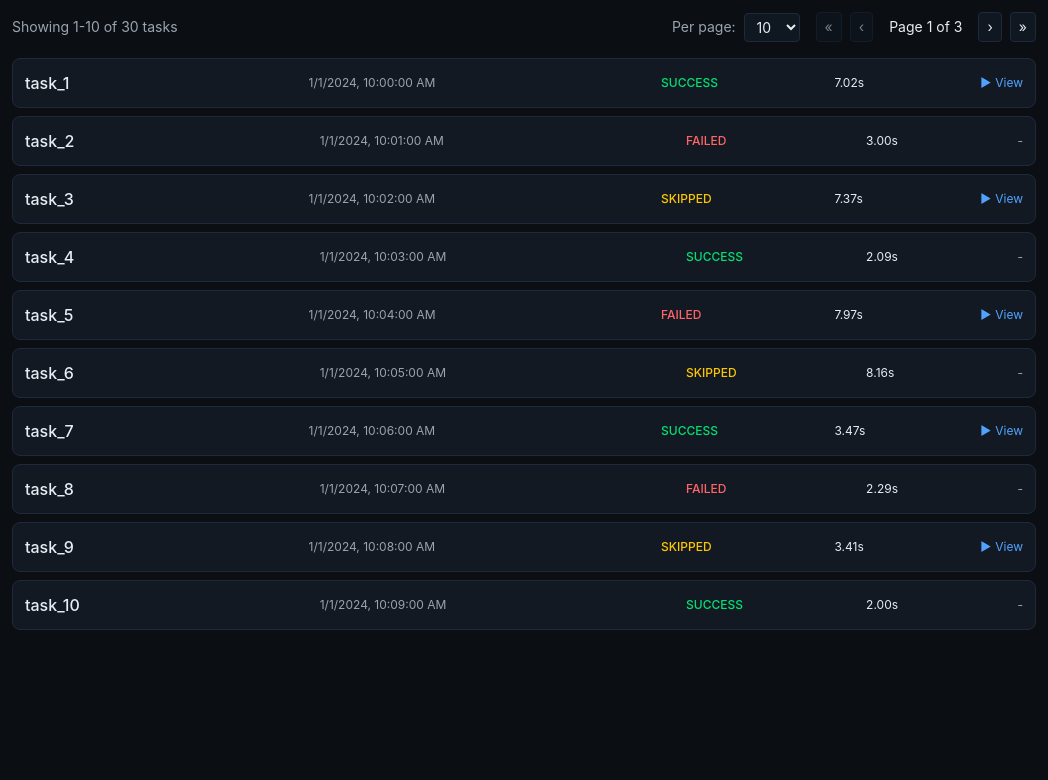
Test: ServiceTasksTable › Bug #75: Pagination functionality › navigates to last page
Note: Click last page button
Click the button titled "Last page" at (1023, 27), box [1010, 12, 1036, 42]
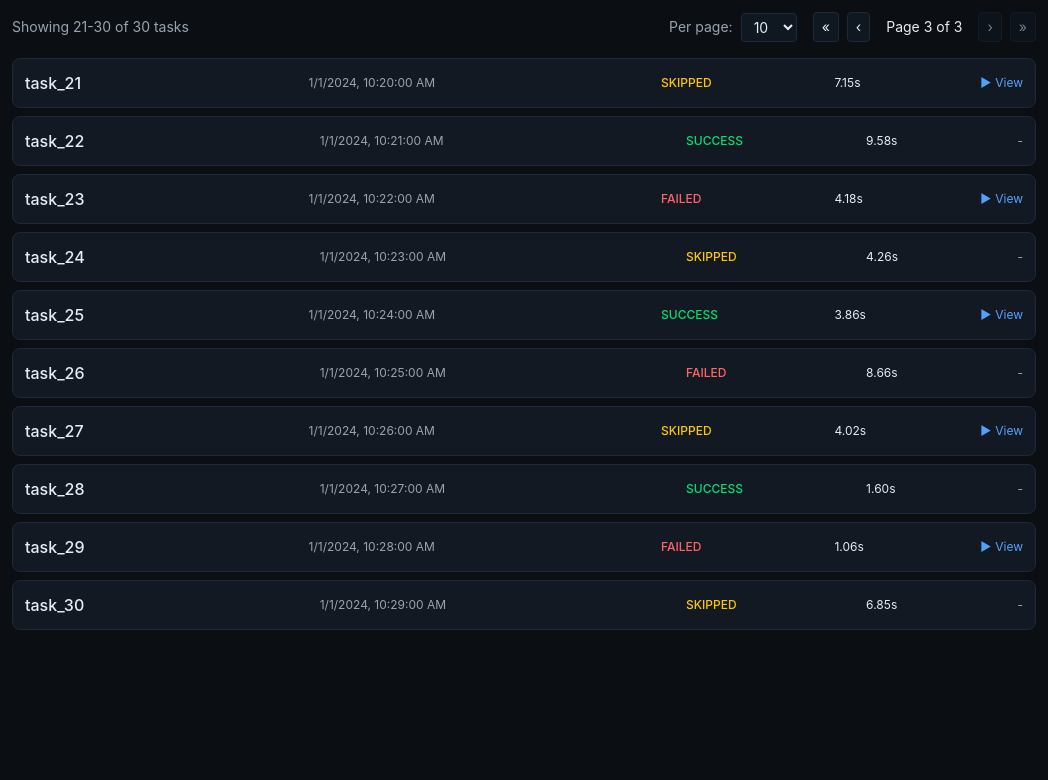
Check: the text "Page 3 of 3" is shown, box [886, 18, 962, 35]
Check: the text "Showing 21-30 of 30 tasks" is shown, box [12, 17, 189, 37]
